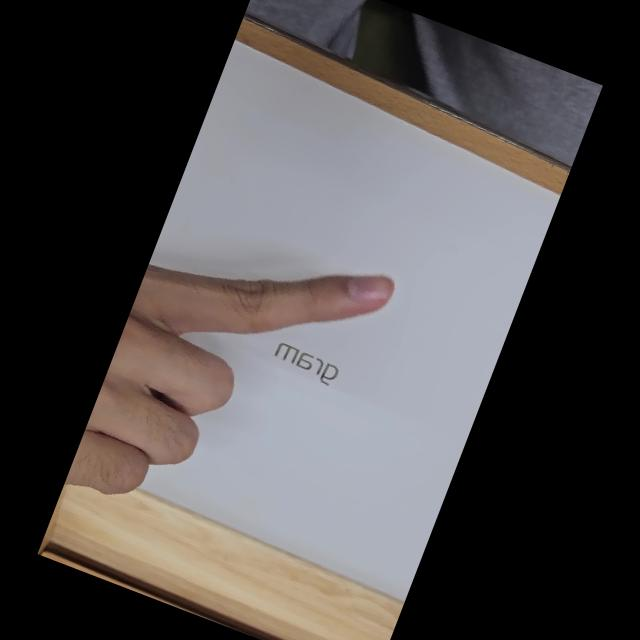fingertips: (307, 275, 396, 321)
